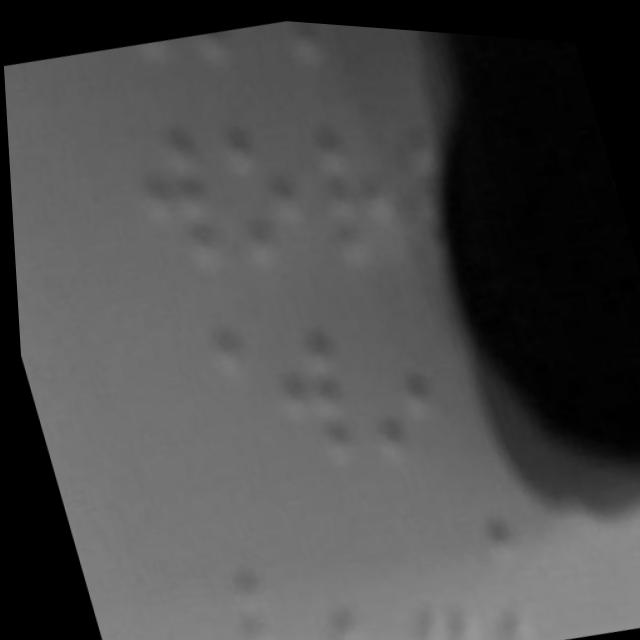braiile: (341, 311, 452, 473), (302, 114, 410, 275), (259, 315, 367, 473), (125, 120, 229, 281), (207, 119, 314, 275), (281, 494, 394, 640), (201, 508, 309, 640)
